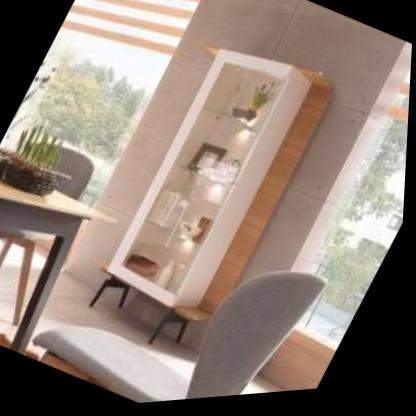Cupboard: (72, 36, 324, 368)
